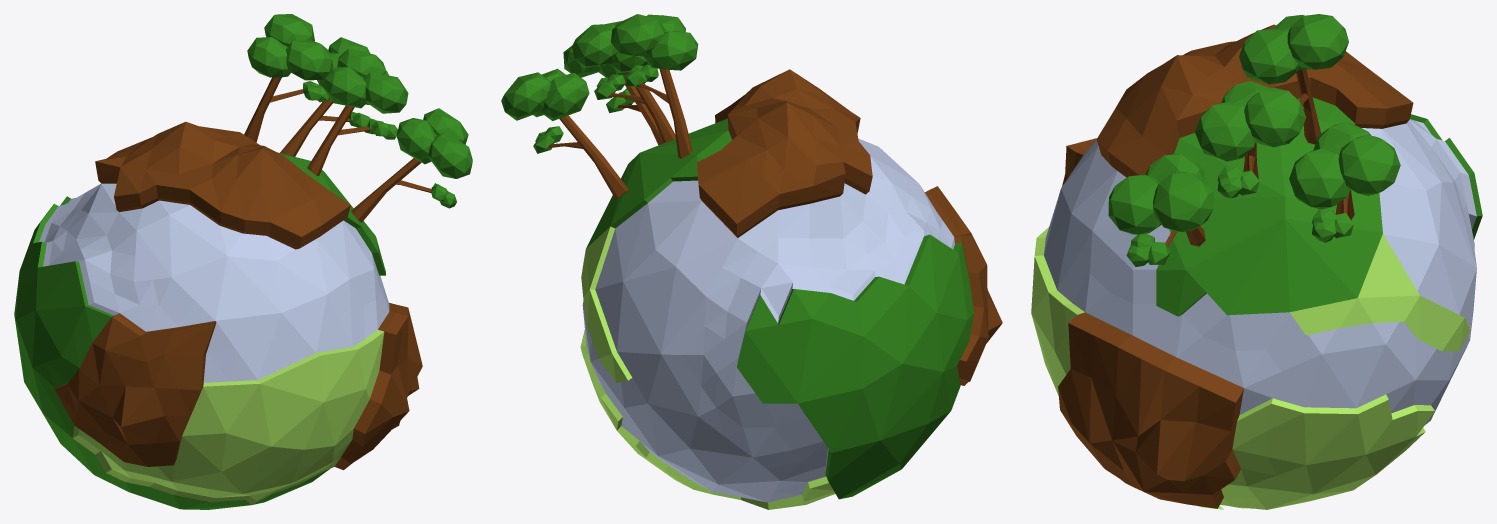
3 views of the same model, side by side, from view 1: azimuth 30°, elevation 25°; view 2: azimuth 150°, elevation 25°; view 3: azimuth 270°, elevation 25° (orthographic). The views are drawn at different scales.
Parts seen in each view (by area): view 1: kamino; view 2: kamino; view 3: kamino.
Part boxes in pixels (left/top/right/bottom): kamino: left=14, top=14, right=472, bottom=509; kamino: left=501, top=14, right=1002, bottom=509; kamino: left=1031, top=14, right=1482, bottom=509.
Size of the model in its own units: 6.05 by 4.94 by 6.39.
